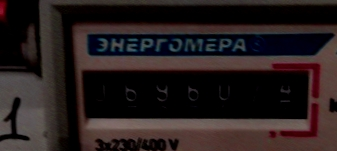0: (89, 80, 107, 105), (215, 78, 231, 105)
4: (277, 78, 291, 99)
5: (276, 100, 291, 119)
6: (120, 79, 138, 104), (184, 78, 200, 105)
7: (246, 80, 262, 106)
9: (152, 80, 169, 106)
screen: (74, 60, 321, 140)
